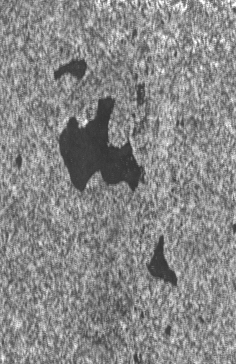Scale: (58, 95, 144, 193), (144, 233, 179, 286), (53, 57, 88, 81)
